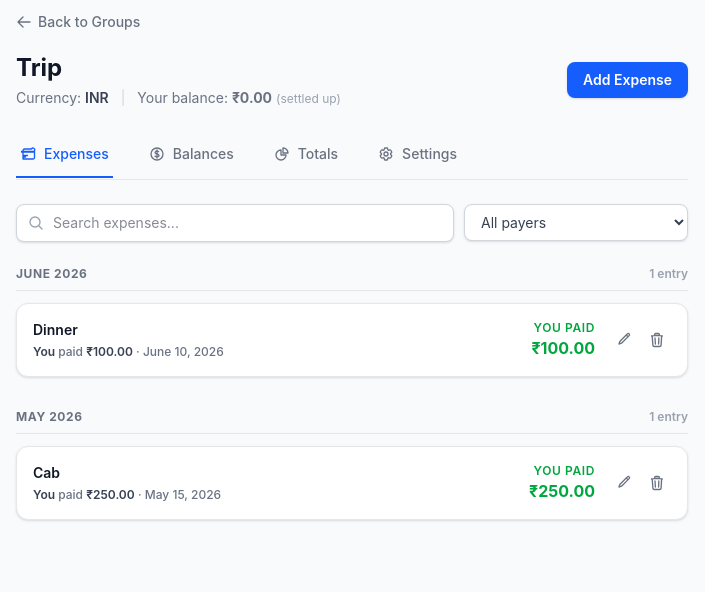
GroupDetailPage › switches to Totals tab and displays spending summary
Note: Click on Totals tab
Click the button "Totals".
click(306, 155)  # box [270,132,342,178]
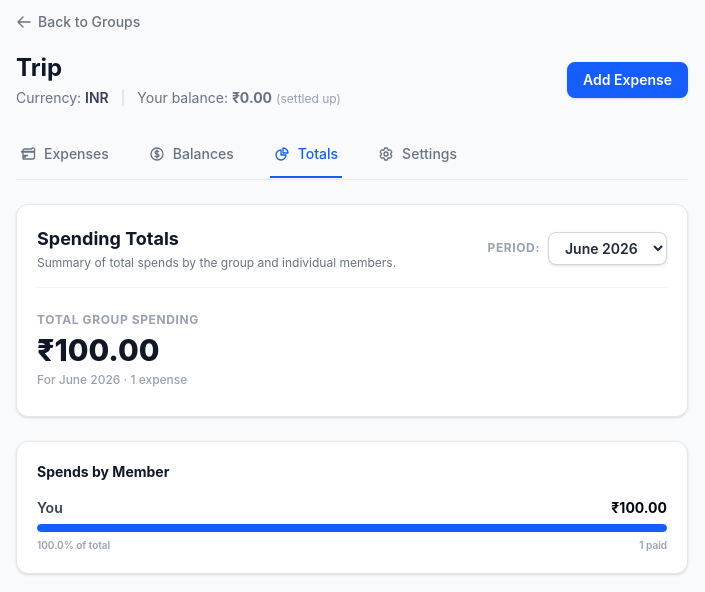
Check: the heading "Spending Totals" is shown, box [37,228,179,249]
Check: the heading "Spends by Member" is shown, box [37,463,169,480]
Check: the text "For June 2026 · 1 expense" is shown, box [37,372,187,387]
Note: Select "All time"
Select "All time" in the dropdown labelled "Period:" at (608, 248), box [548,232,667,264]
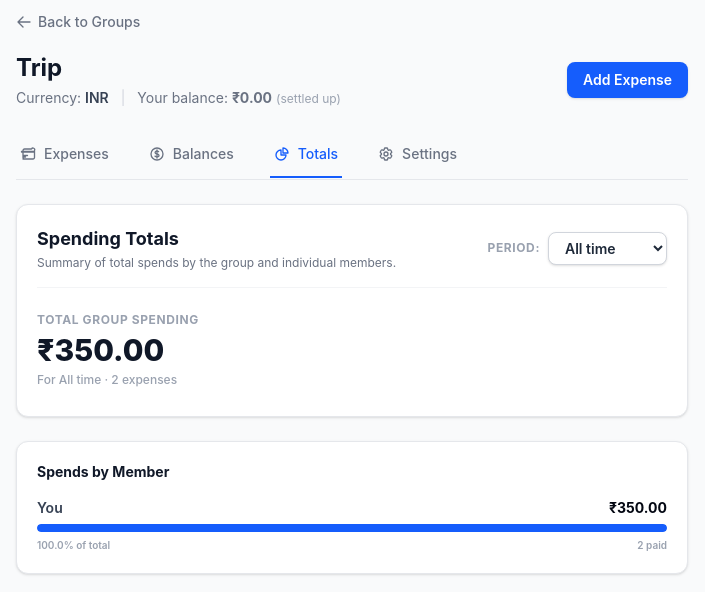
Check: the text "For All time · 2 expenses" is shown, box [37,372,177,387]
